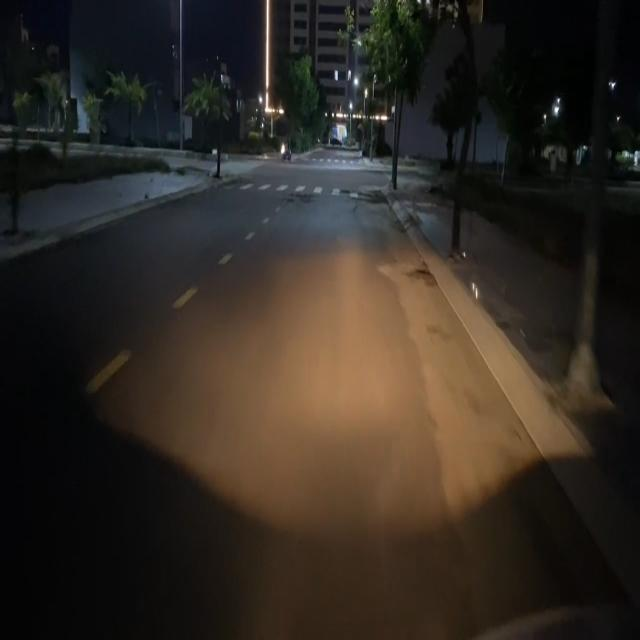walk-crossing: (215, 177, 372, 202)
